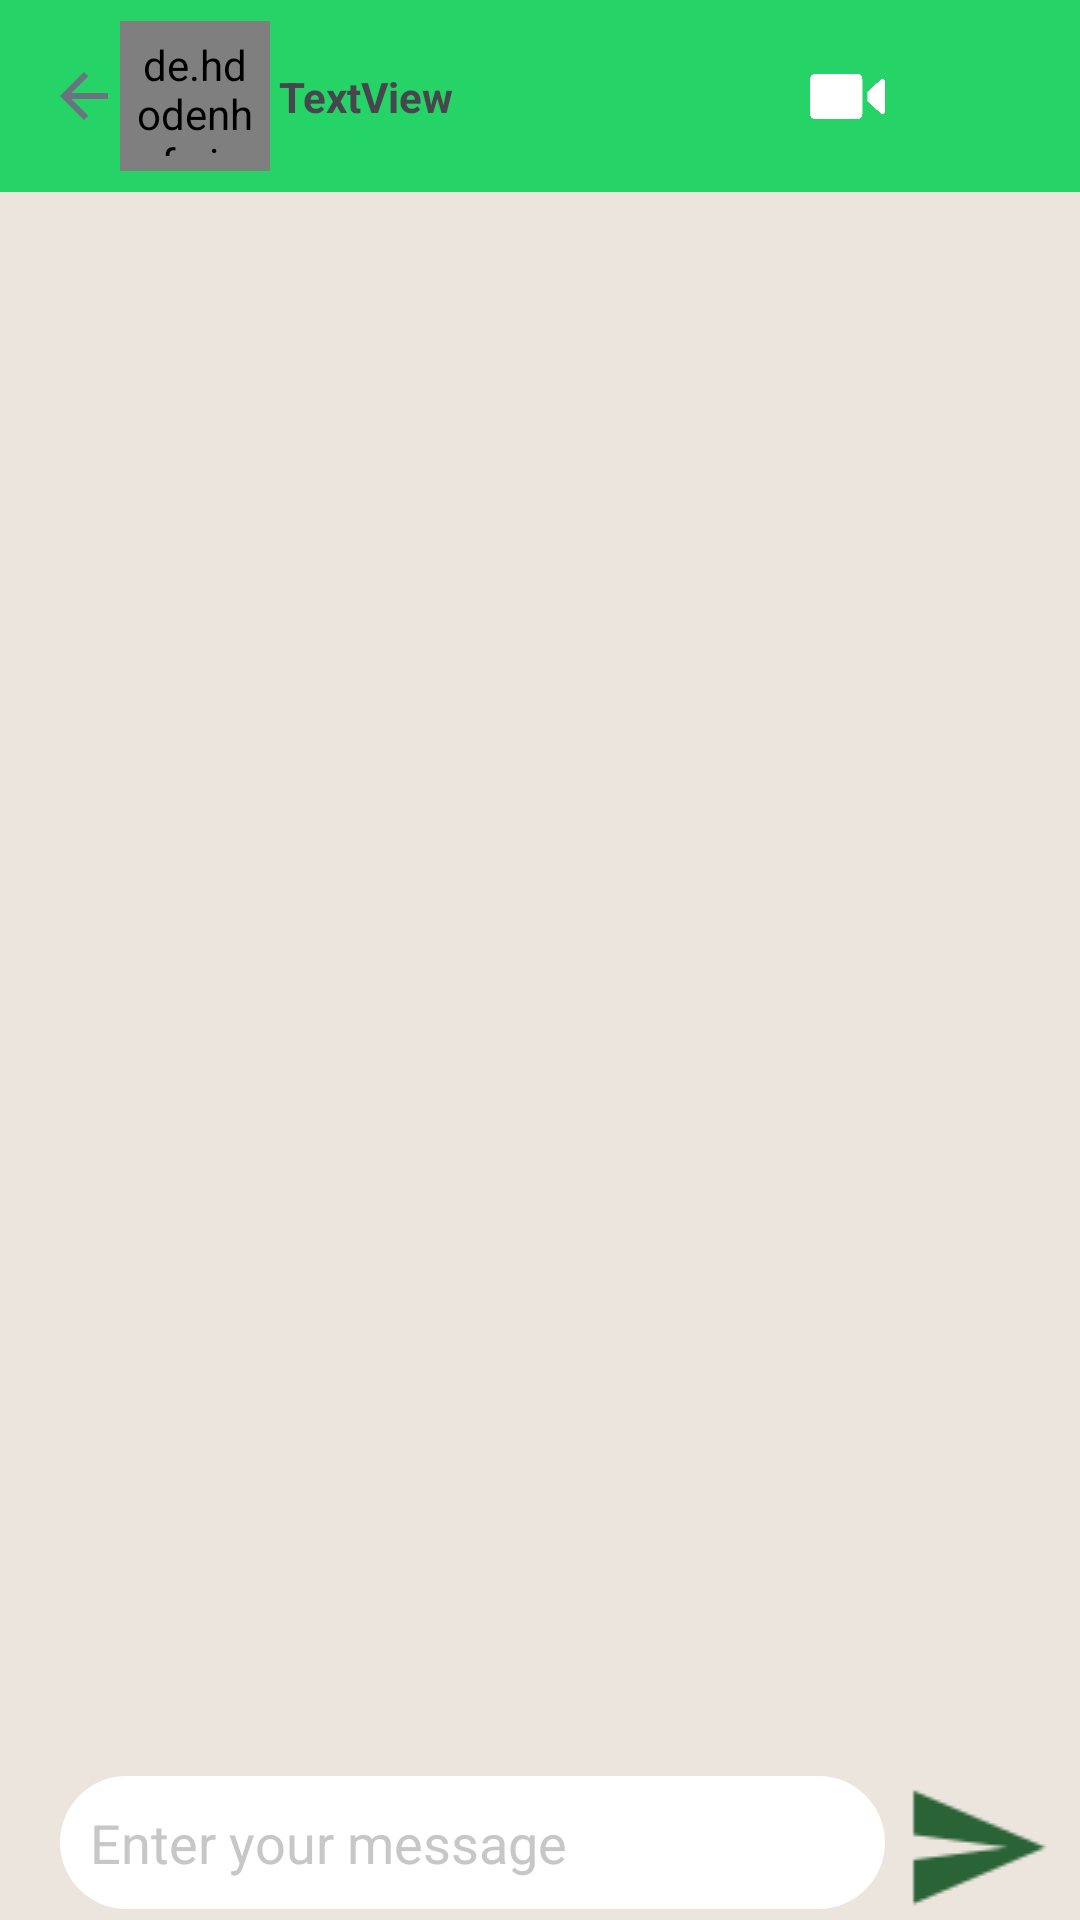

Point at icon controls on the screen. Image size 1080 × 1920, points as point (x, y).
arrow back: point (84, 96)
send: point (979, 1847)
video call: point (847, 96)
